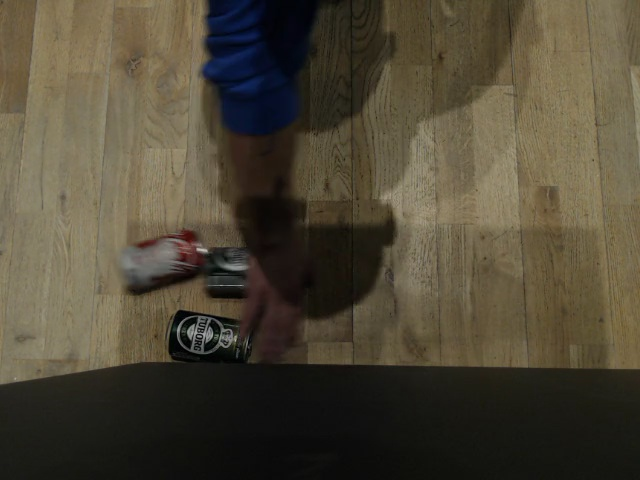cola: (112, 229, 213, 294)
